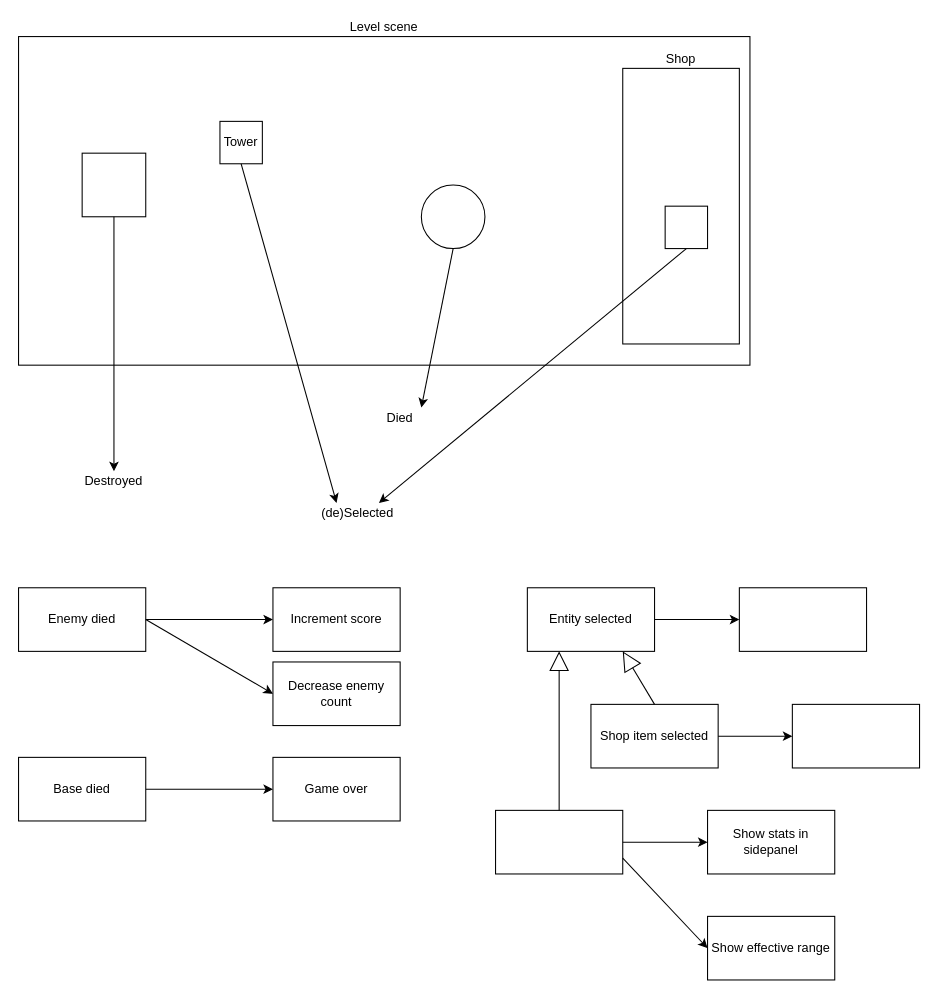
This 938x999 diagram has some shape labels left out. The centre of each missing label's shape, as x and y in pixels:
Base: pixel 113 184
Deselect everything else: pixel 802 619
Enemy: pixel 452 216
Shop item: pixel 686 227
Show placeable item: pixel 855 735
Tower/obstacle selected: pixel 558 841
